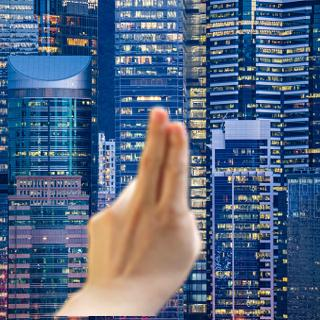DHAVE: (74, 100, 208, 295)
